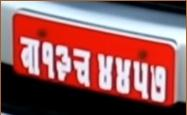1: (40, 38, 55, 80)
3: (55, 43, 72, 82)
4: (95, 52, 115, 93), (114, 55, 133, 97)
5: (132, 60, 150, 100)
7: (149, 64, 168, 103)
ba: (17, 35, 41, 77)
cha: (72, 46, 93, 87)
